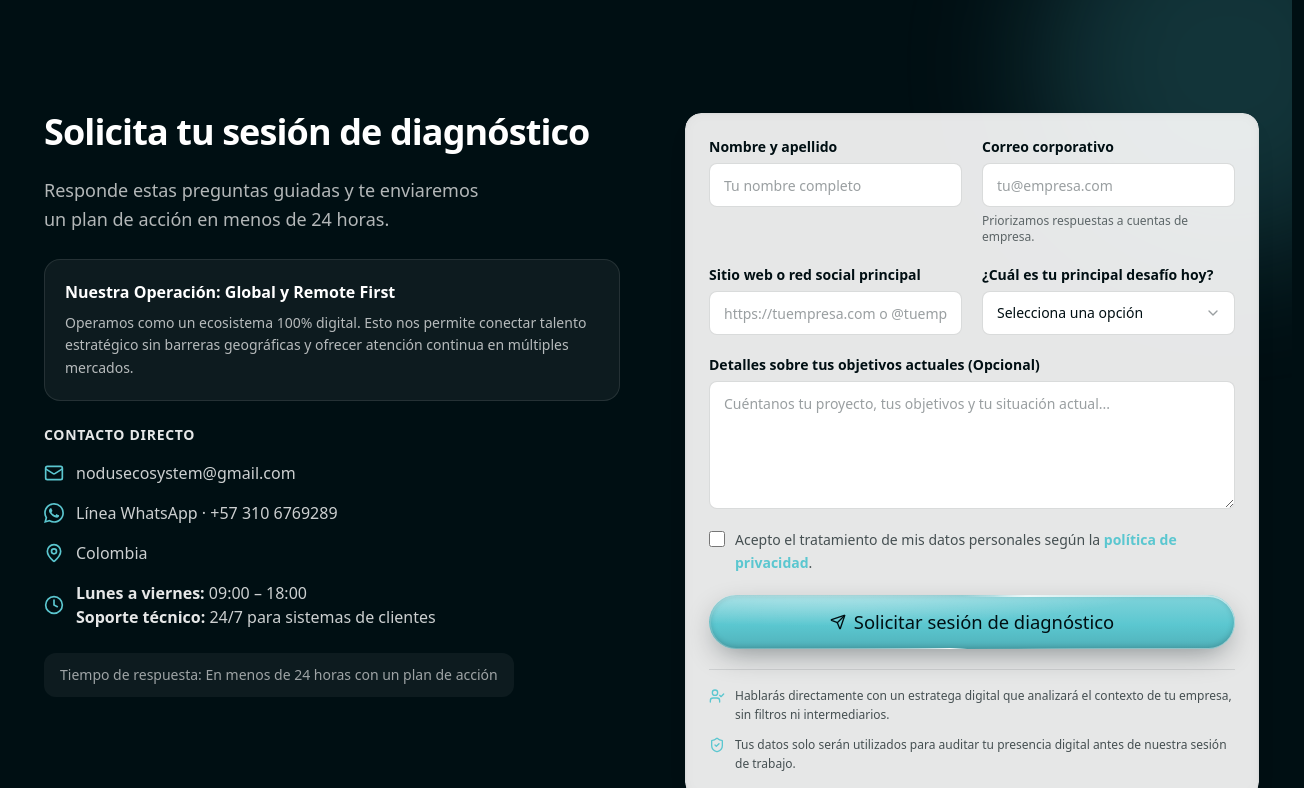
Scenario: ContactForm › shows validation errors when submitting empty fields
Click the button "Solicitar sesión de diagnóstico": (972,622) [709,594,1235,649]
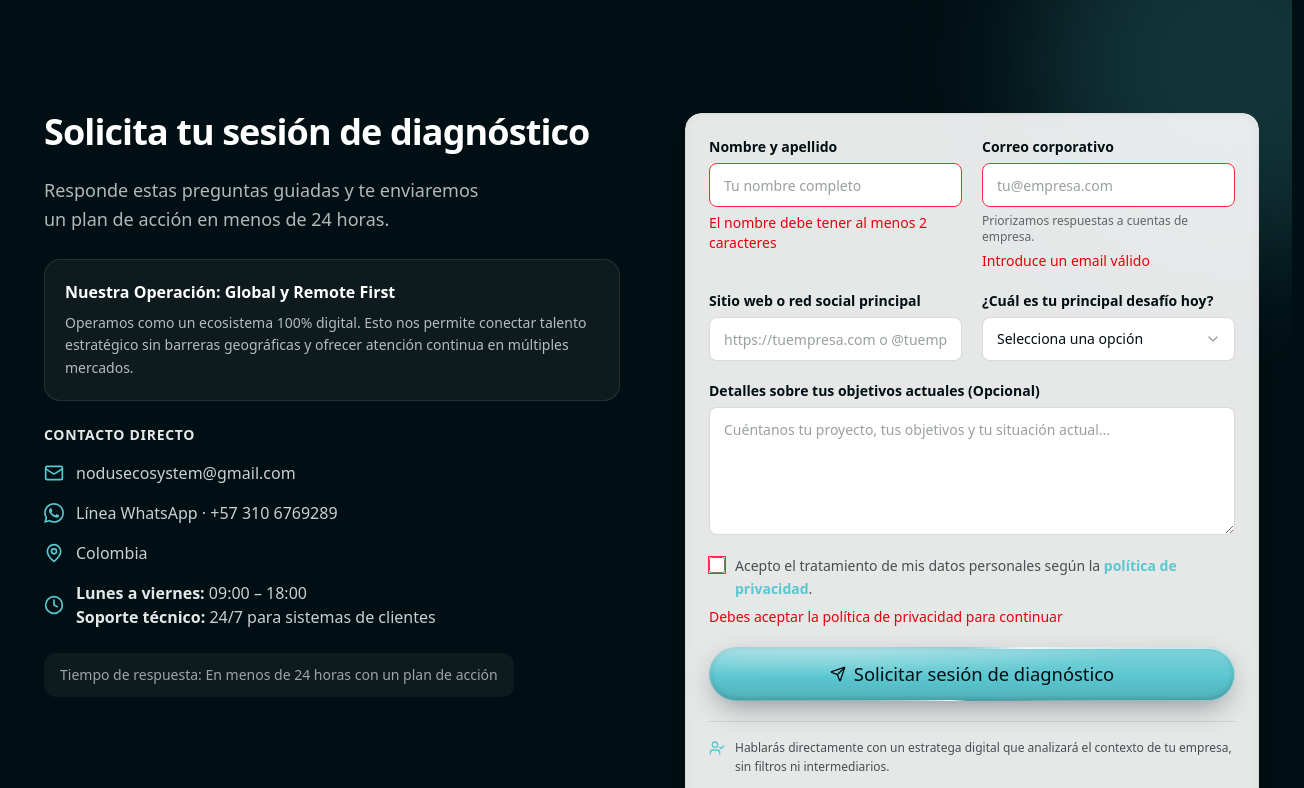
Check: the text "El nombre debe tener al menos 2 caracteres" is shown, box [709,213,962,253]
Check: the text "Introduce un email válido" is shown, box [982,251,1150,270]
Check: the text "Debes aceptar la política de privacidad para continuar" is shown, box [709,606,1063,626]
